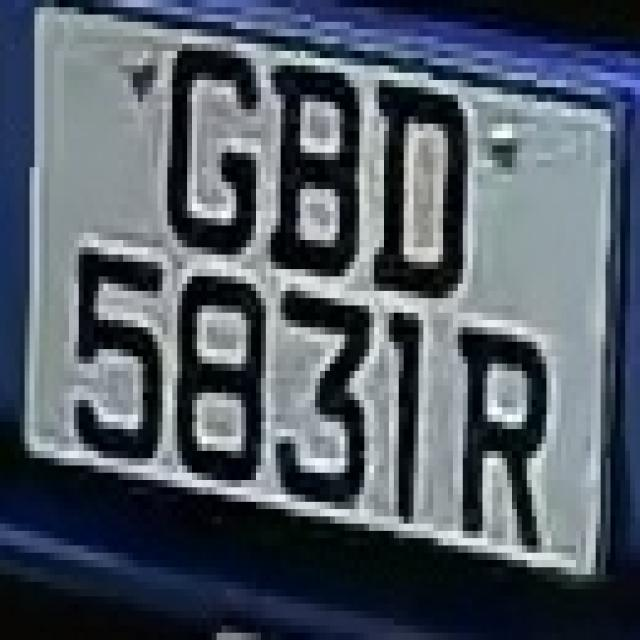1: (384, 276, 433, 538)
3: (271, 255, 369, 538)
5: (69, 225, 172, 473)
8: (162, 247, 286, 495)
B: (266, 29, 364, 298)
D: (374, 51, 473, 313)
G: (162, 7, 266, 291)
R: (448, 262, 546, 589)
